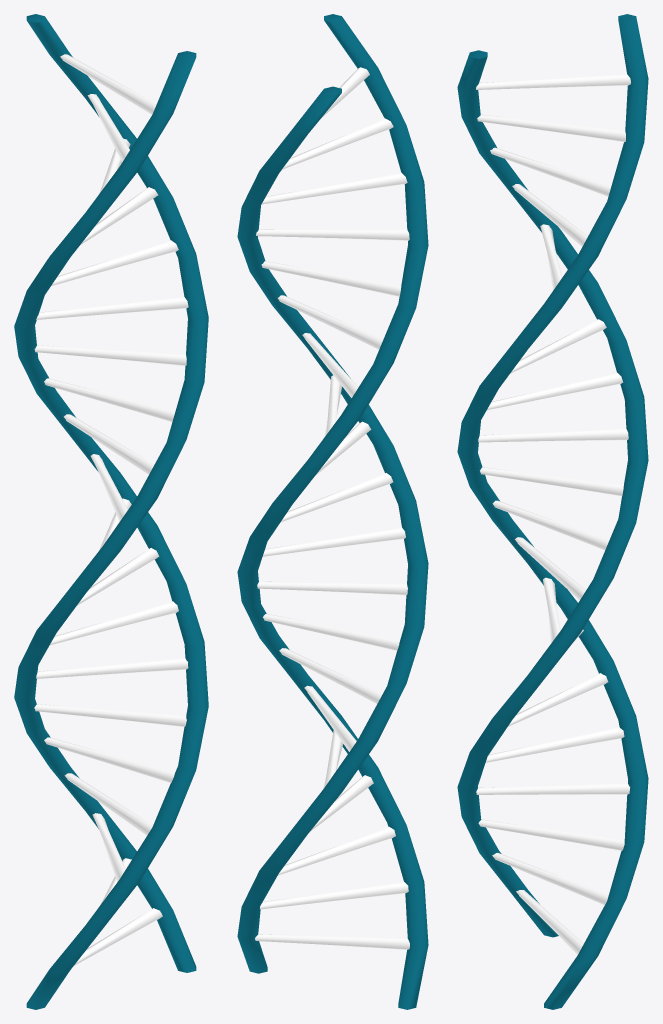
Rendered from Dna.glb.
The picture shows the model from 3 angles, left to right: view 1: azimuth 30°, elevation 25°; view 2: azimuth 150°, elevation 25°; view 3: azimuth 270°, elevation 25°; orthographic projection.
Parts seen in each view (by area): view 1: Dna; view 2: Dna; view 3: Dna.
Part boxes in pixels (<box>): Dna: <box>14,14,208,1009</box>; Dna: <box>237,14,428,1009</box>; Dna: <box>457,14,648,1009</box>.
Size of the model in its own units: 0.056 by 0.3 by 0.0557.
Materials: 1 (1 with a texture image).
